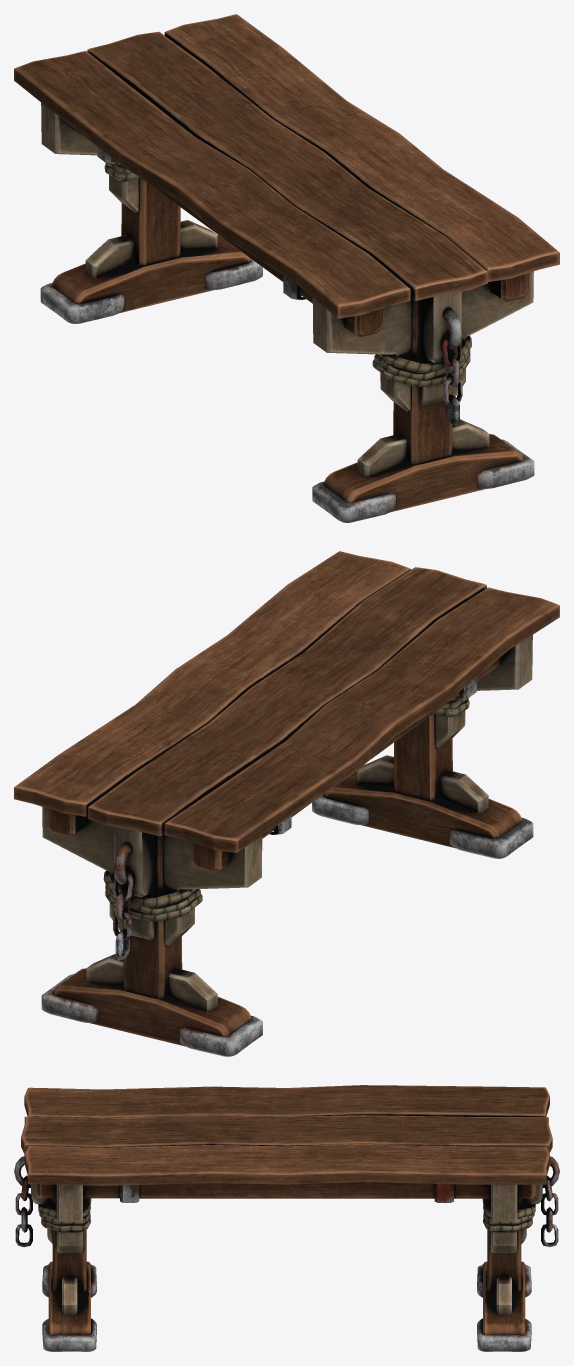
File: mesa-longa.glb
3 renders of one model, top to bottom at view 1: azimuth 30°, elevation 25°; view 2: azimuth 150°, elevation 25°; view 3: azimuth 270°, elevation 25°, orthographic. The views are drawn at different scales.
Parts seen in each view (by area): view 1: Cube.008, Cylinder.004; view 2: Cube.008, Cylinder.004; view 3: Cube.008, Cylinder.004.
Boxes of the visible parts, bbox=[...] form: Cube.008: bbox=[14, 14, 559, 512]; Cylinder.004: bbox=[40, 147, 534, 522]; Cube.008: bbox=[14, 551, 559, 1046]; Cylinder.004: bbox=[41, 677, 533, 1056]; Cube.008: bbox=[21, 1085, 552, 1335]; Cylinder.004: bbox=[14, 1156, 559, 1351].
Bounding box in the file's own units: 0.7708 × 0.7371 × 1.96.
Materials: 2 (2 with a texture image).
